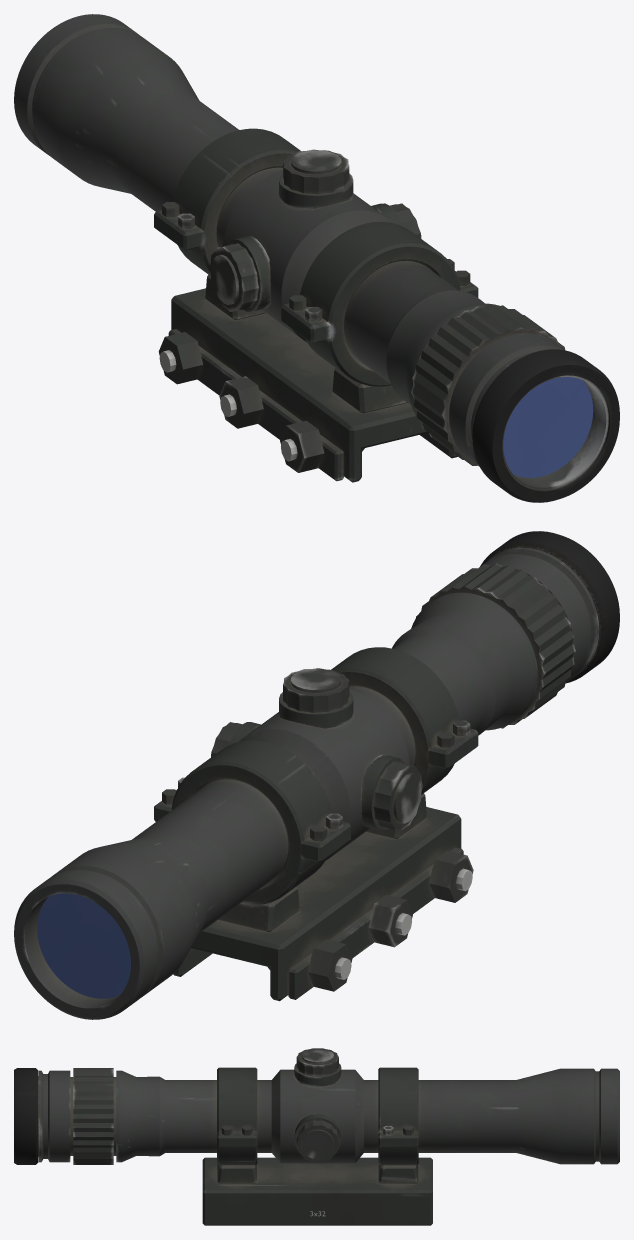
File: luneta_besta.glb
The picture shows the model from 3 angles, top to bottom: view 1: azimuth 30°, elevation 25°; view 2: azimuth 150°, elevation 25°; view 3: azimuth 270°, elevation 25°; orthographic projection. The views are drawn at different scales.
Parts seen in each view (by area): view 1: luneta_besta_luneta, luneta_besta_lente; view 2: luneta_besta_luneta, luneta_besta_lente; view 3: luneta_besta_luneta.
Boxes of the visible parts, x1,y1,x2,y2 form: luneta_besta_luneta: (14, 14, 619, 502); luneta_besta_lente: (503, 377, 593, 477); luneta_besta_luneta: (14, 531, 619, 1019); luneta_besta_lente: (37, 893, 130, 998); luneta_besta_luneta: (14, 1048, 619, 1225).
Bounding box in the file's own units: 0.047 × 0.0593 × 0.2106.
1 material, 1 textured.
